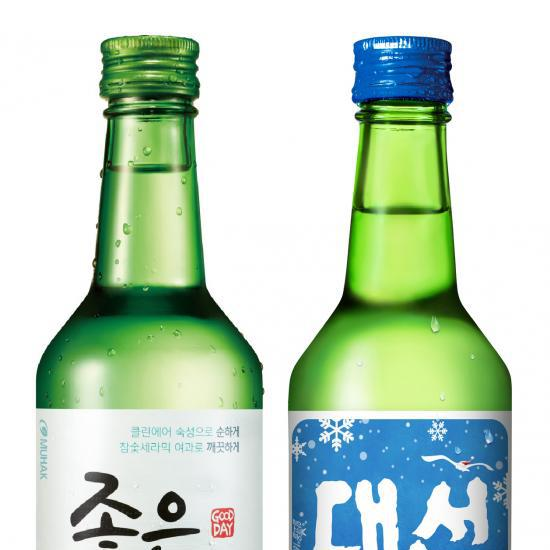soju: (36, 33, 265, 550), (285, 34, 514, 550)
